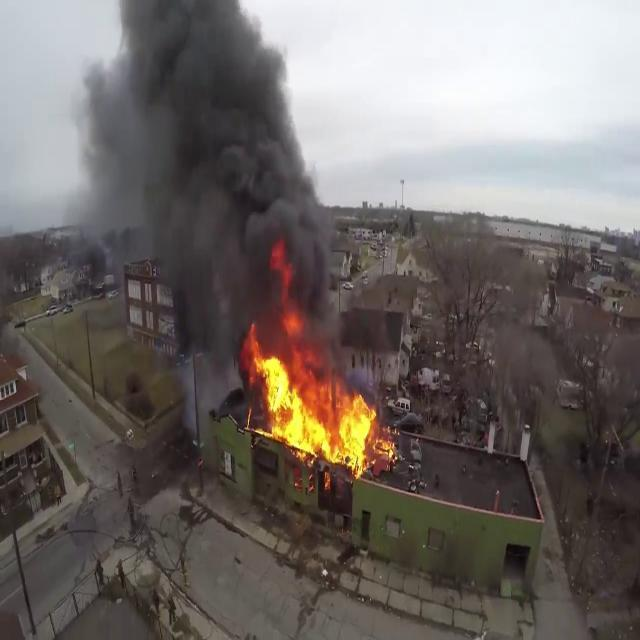Fire: (242, 330, 394, 480)
Smoke: (75, 0, 348, 340)
